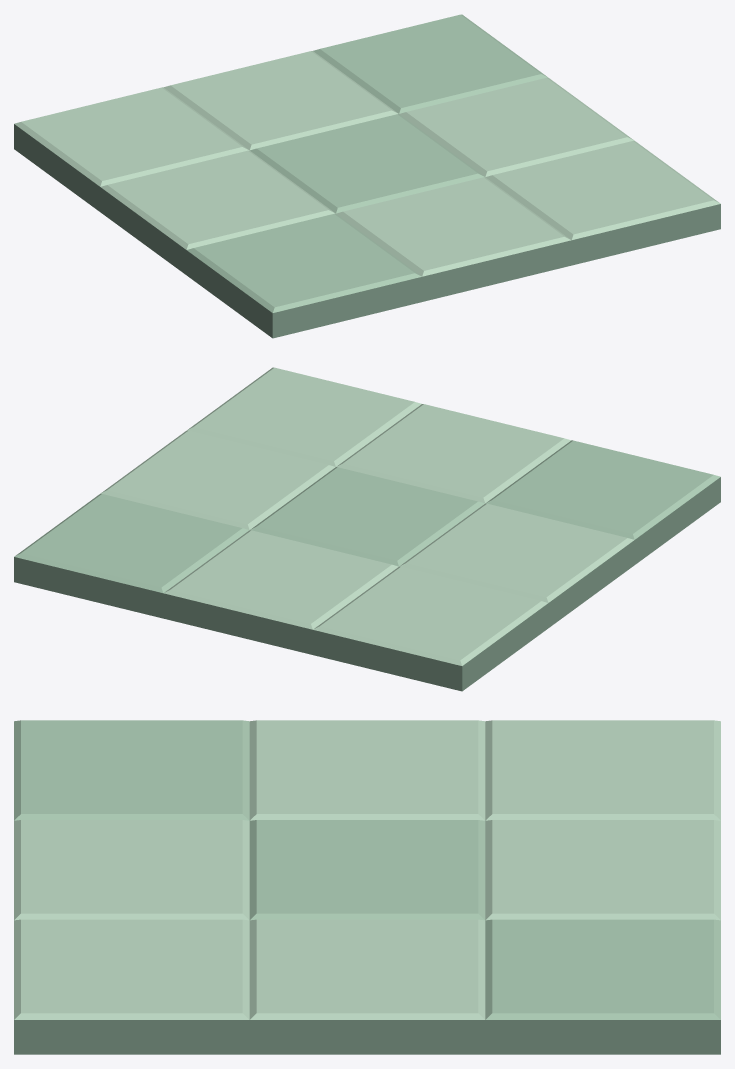
The model's file is boden_fliese_gruen_b.glb.
3 renders of one model, top to bottom at view 1: azimuth 30°, elevation 25°; view 2: azimuth 150°, elevation 25°; view 3: azimuth 270°, elevation 25°, orthographic. The views are drawn at different scales.
Visible parts, largest first — view 1: boden_fliese_gruen_b; view 2: boden_fliese_gruen_b; view 3: boden_fliese_gruen_b.
Boxes of the visible parts, <box> form: boden_fliese_gruen_b: <box>14,14,720,338</box>; boden_fliese_gruen_b: <box>14,367,720,691</box>; boden_fliese_gruen_b: <box>14,720,720,1054</box>.
Size of the model in its own units: 1 by 0.06 by 1.
